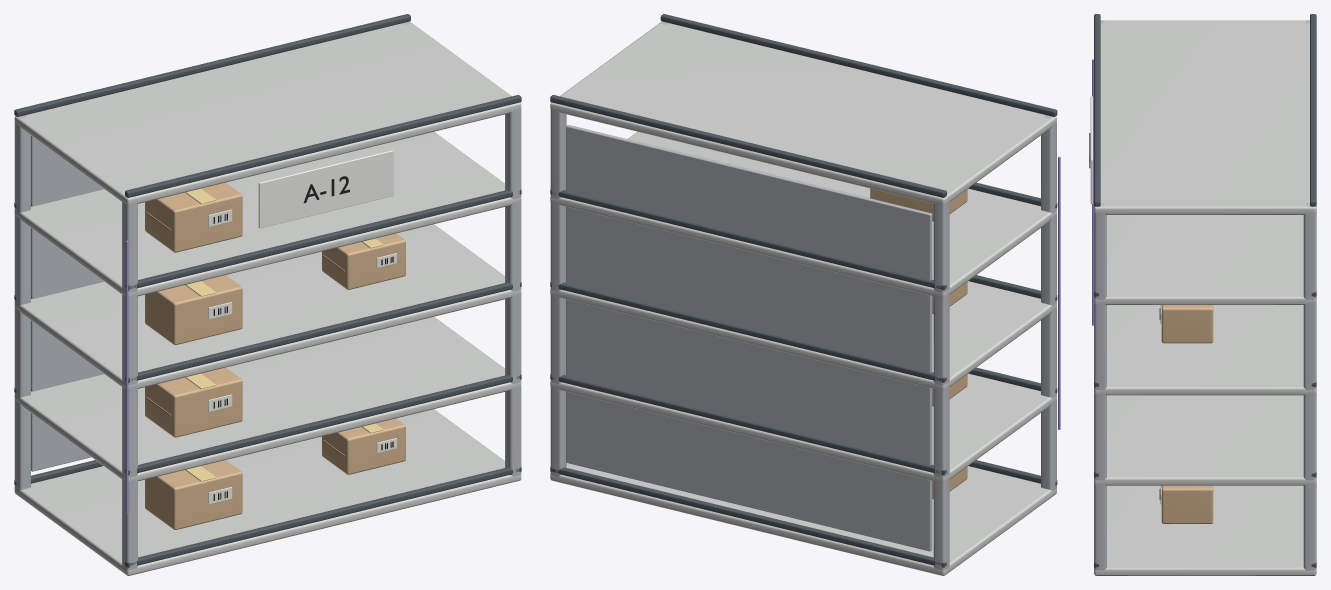
Rendered from shelf-medium.glb.
3 renders of one model, left to right at view 1: azimuth 30°, elevation 25°; view 2: azimuth 150°, elevation 25°; view 3: azimuth 270°, elevation 25°, orthographic. The views are drawn at different scales.
Visible parts, largest first — view 1: laminated shelf deck.004, laminated shelf deck.001, laminated shelf deck, laminated shelf deck.002, laminated shelf deck.003, rear perforated backing, aisle label plate, rounded upright post.002, rounded upright post.001, rounded upright post, shelf parcel 2a carton, shelf parcel 0a carton (+11 smaller); view 2: rear perforated backing, laminated shelf deck.004, laminated shelf deck.003, laminated shelf deck, laminated shelf deck.002, laminated shelf deck.001, rounded upright post.001, rounded upright post.003, rounded upright post, front safety rail.004, rear safety rail.004, rear safety rail (+5 smaller); view 3: laminated shelf deck.004, laminated shelf deck.001, laminated shelf deck.003, laminated shelf deck.002, laminated shelf deck, rounded upright post.003, rounded upright post.002, shelf parcel 0b carton, shelf parcel 2b carton, front safety rail.004, rear safety rail.004, colored aisle strip (+1 smaller).
Boxes of the visible parts, box(x1,y1,x2,y2) form: laminated shelf deck.004: box(14, 21, 521, 205); laminated shelf deck.001: box(14, 316, 521, 482); laminated shelf deck: box(14, 409, 521, 575); laminated shelf deck.002: box(14, 224, 521, 390); laminated shelf deck.003: box(14, 132, 521, 297); rear perforated backing: box(31, 136, 103, 471); aisle label plate: box(258, 150, 393, 228); rounded upright post.002: box(505, 109, 521, 478); rounded upright post.001: box(14, 115, 30, 490); rounded upright post: box(122, 199, 137, 569); shelf parcel 2a carton: box(145, 275, 242, 344); shelf parcel 0a carton: box(145, 460, 242, 529); rear perforated backing: box(566, 125, 932, 551); laminated shelf deck.004: box(550, 21, 1056, 205); laminated shelf deck.003: box(550, 131, 1056, 297); laminated shelf deck: box(550, 463, 1056, 575); laminated shelf deck.002: box(550, 281, 1056, 390); laminated shelf deck.001: box(550, 373, 1056, 482); rounded upright post.001: box(933, 200, 949, 573); rounded upright post.003: box(550, 109, 566, 479); rounded upright post: box(1041, 115, 1056, 490); front safety rail.004: box(660, 14, 1057, 116); rear safety rail.004: box(550, 95, 946, 197); rear safety rail: box(550, 467, 946, 567); laminated shelf deck.004: box(1094, 20, 1316, 214); laminated shelf deck.001: box(1094, 395, 1316, 485); laminated shelf deck.003: box(1094, 215, 1316, 304); laminated shelf deck.002: box(1094, 305, 1316, 395); laminated shelf deck: box(1094, 485, 1316, 575); rounded upright post.003: box(1303, 203, 1316, 570); rounded upright post.002: box(1094, 203, 1106, 570); shelf parcel 0b carton: box(1161, 485, 1213, 523); shelf parcel 2b carton: box(1161, 305, 1213, 343); front safety rail.004: box(1094, 14, 1100, 206); rear safety rail.004: box(1310, 14, 1316, 206); colored aisle strip: box(1092, 59, 1093, 325).
Size of the model in its own units: 2.41 by 2.23 by 1.23.
